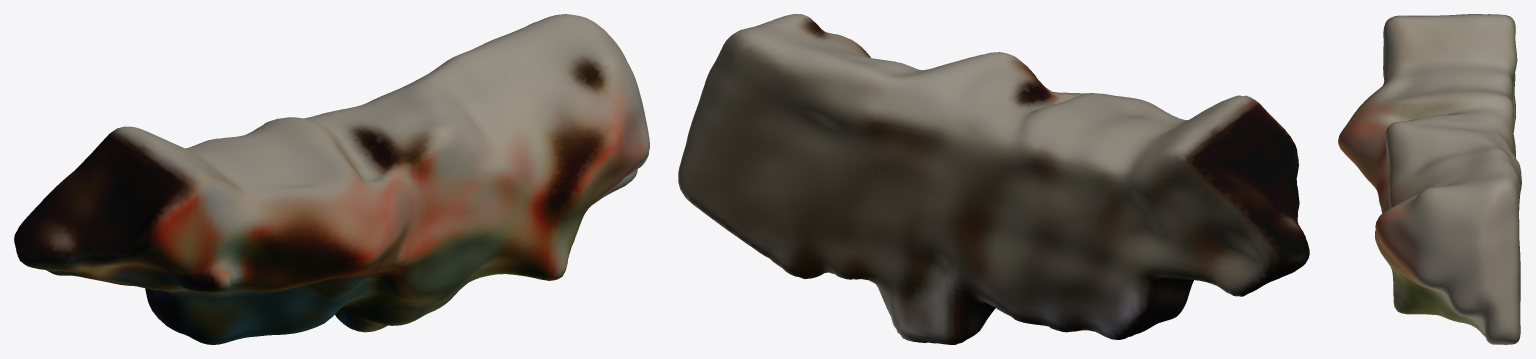
Rendered from blocks.glb.
The picture shows the model from 3 angles, left to right: view 1: azimuth 30°, elevation 25°; view 2: azimuth 150°, elevation 25°; view 3: azimuth 270°, elevation 25°; orthographic projection. The views are drawn at different scales.
Bounding box in the file's own units: 0.9986 × 0.4042 × 0.3196.
